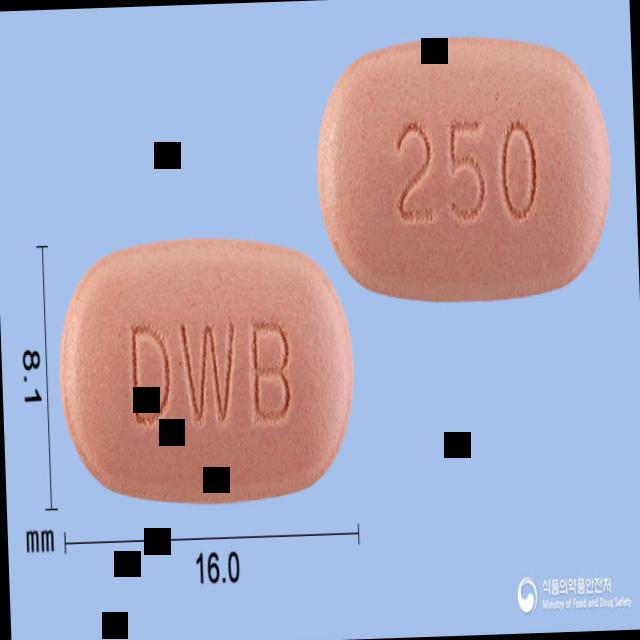Ciflox - 250mg: (54, 233, 356, 509), (314, 30, 614, 306)
